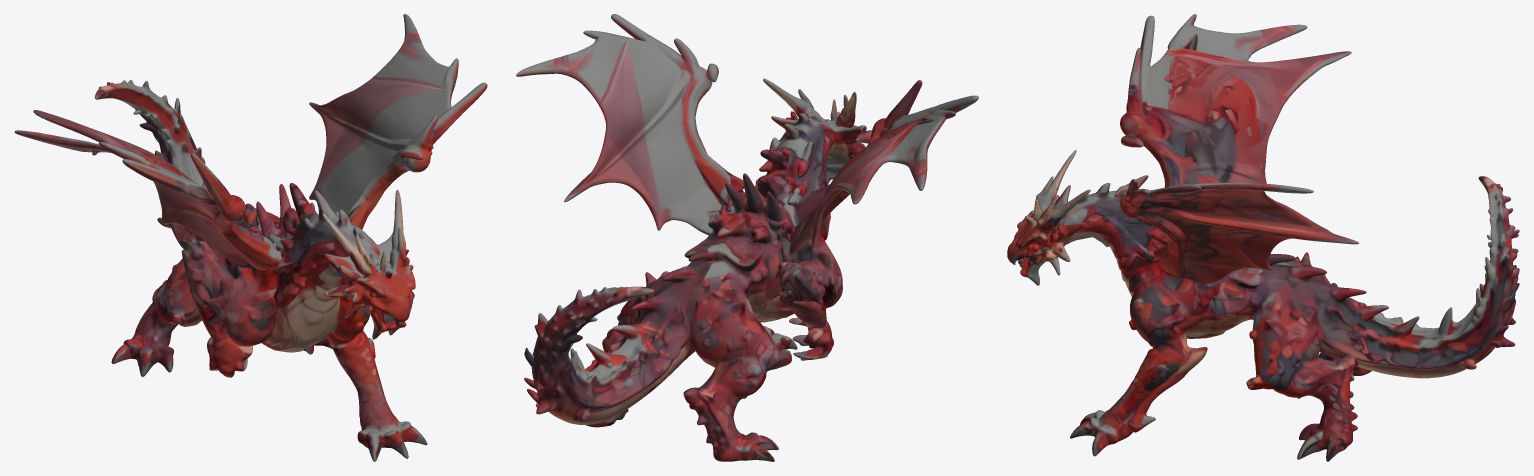
The model's file is red dragon 3d model.glb.
The picture shows the model from 3 angles, left to right: view 1: azimuth 30°, elevation 25°; view 2: azimuth 150°, elevation 25°; view 3: azimuth 270°, elevation 25°; orthographic projection. The views are drawn at different scales.
Parts seen in each view (by area): view 1: tripo_node_5dfb79cf-f4af-40fd-8506-8e1b05a5e147; view 2: tripo_node_5dfb79cf-f4af-40fd-8506-8e1b05a5e147; view 3: tripo_node_5dfb79cf-f4af-40fd-8506-8e1b05a5e147.
Boxes of the visible parts, bbox=[...] form: tripo_node_5dfb79cf-f4af-40fd-8506-8e1b05a5e147: bbox=[14, 14, 487, 461]; tripo_node_5dfb79cf-f4af-40fd-8506-8e1b05a5e147: bbox=[516, 14, 978, 461]; tripo_node_5dfb79cf-f4af-40fd-8506-8e1b05a5e147: bbox=[1007, 14, 1519, 461].
Bounding box in the file's own units: 0.8469 × 0.678 × 1.
1 material, 1 textured.
